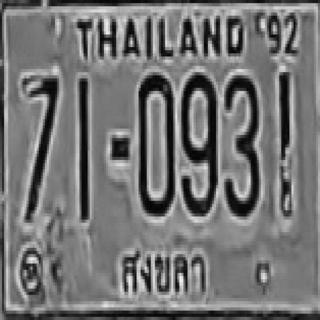N00: (137, 72, 173, 213)
N01: (277, 71, 291, 221), (77, 75, 90, 220)
N03: (222, 72, 259, 213)
N07: (22, 74, 57, 218)
N09: (179, 71, 216, 215)
P64: (110, 240, 218, 307)
